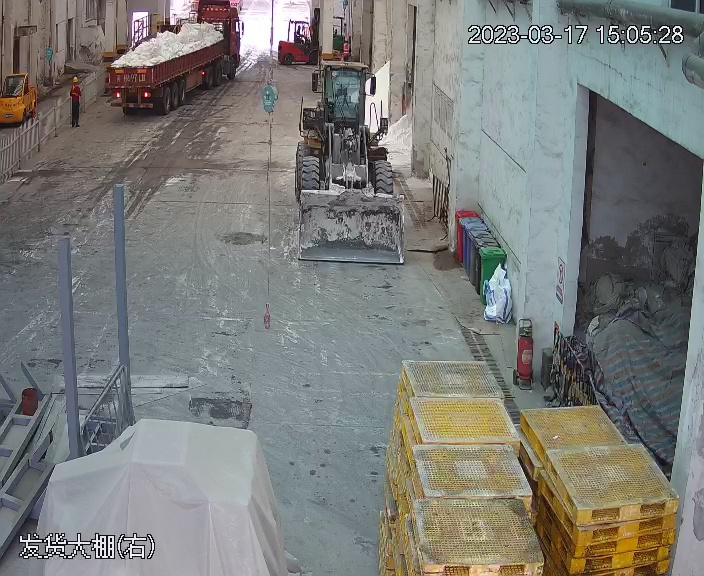head: (69, 75, 83, 93)
helmet: (71, 75, 80, 81)
people: (68, 73, 85, 129)
truck: (101, 2, 244, 118)
